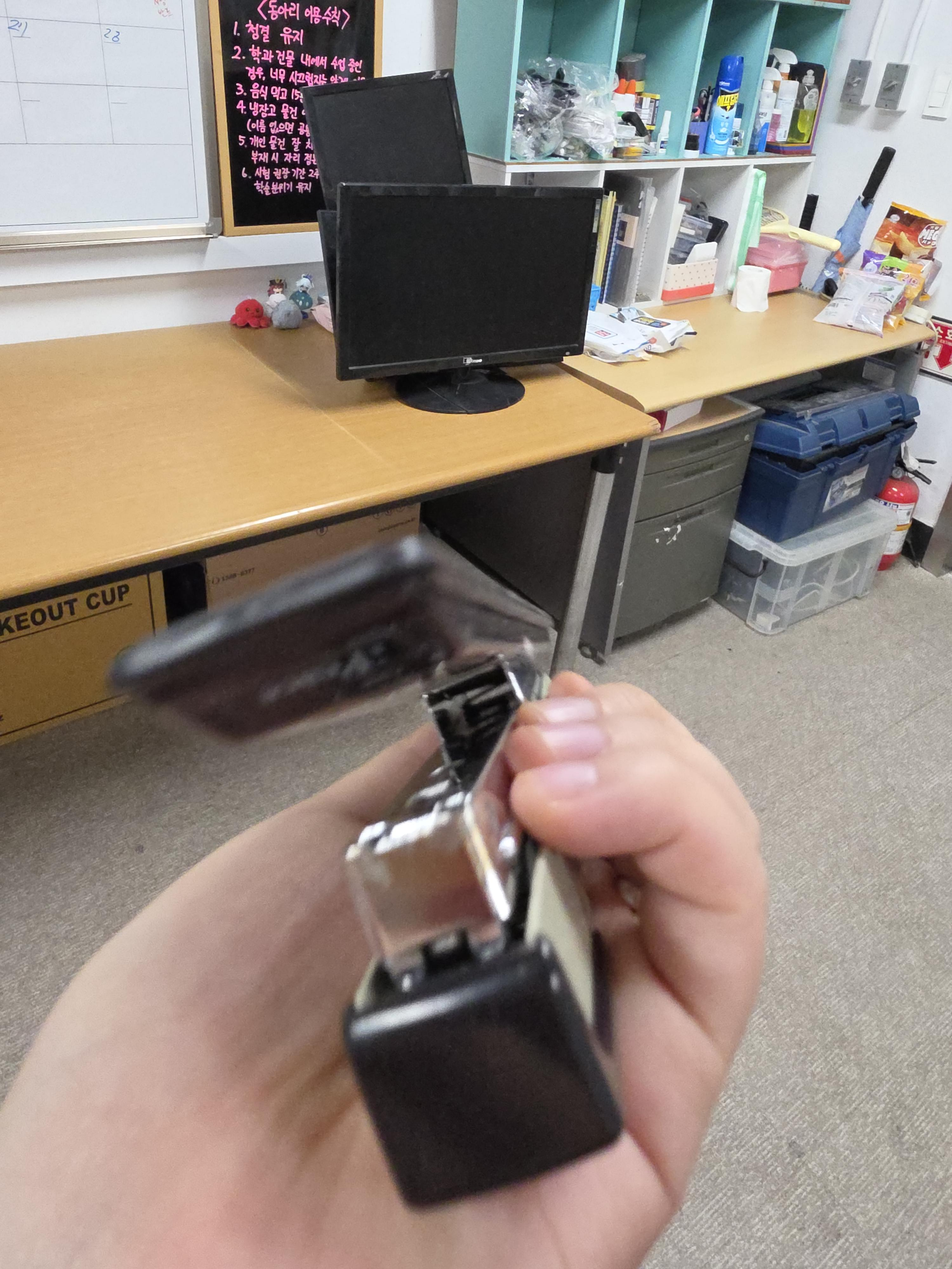stapler: (106, 530, 625, 1216)
tissue: (661, 241, 718, 303), (732, 264, 772, 313)
